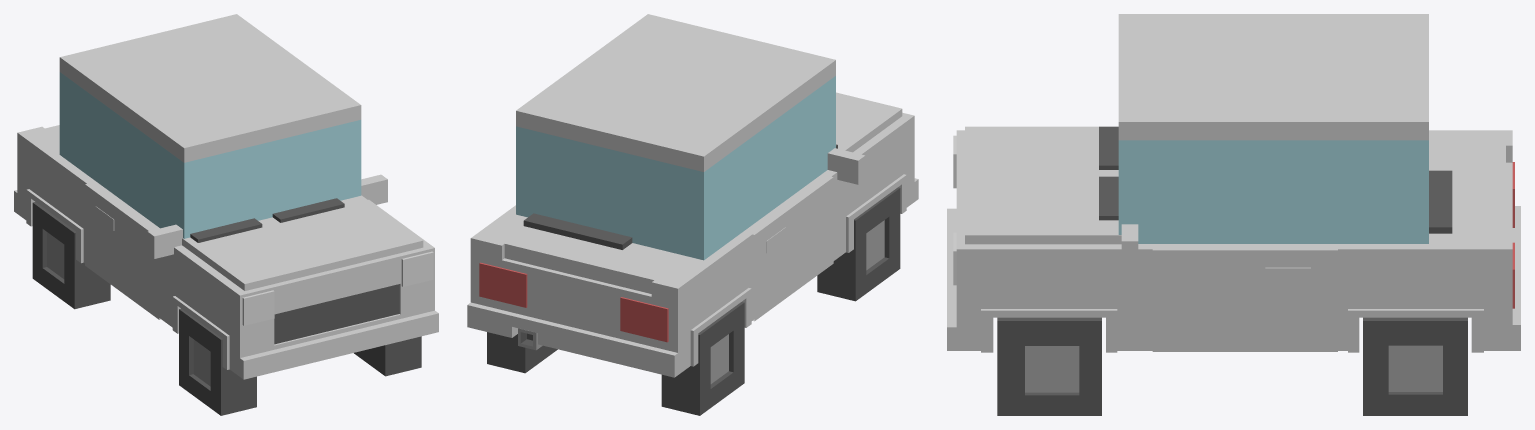
The model's file is avto.fbx.
The picture shows the model from 3 angles, left to right: view 1: azimuth 30°, elevation 25°; view 2: azimuth 150°, elevation 25°; view 3: azimuth 270°, elevation 25°; orthographic projection. The views are drawn at different scales.
Visible parts, largest first — view 1: Camera.001; view 2: Camera.001; view 3: Camera.001.
Boxes of the visible parts, <box> form: Camera.001: <box>14,14,438,415</box>; Camera.001: <box>467,14,918,415</box>; Camera.001: <box>947,14,1520,415</box>.
Size of the model in its own units: 129 by 121 by 220.
